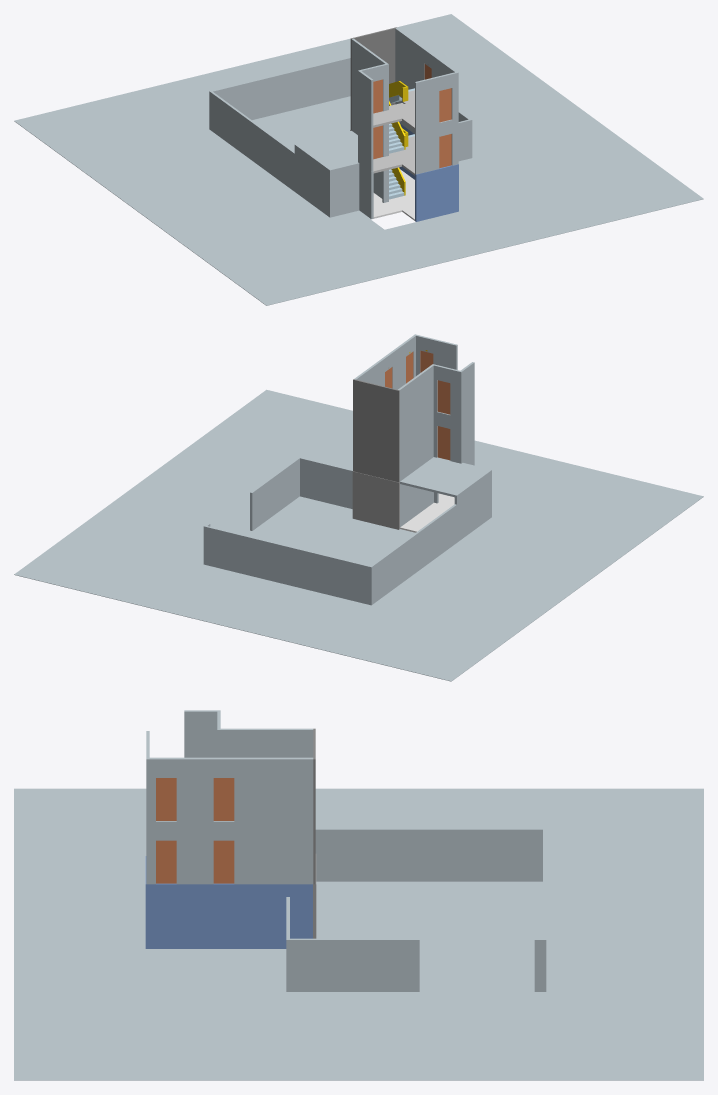
The model's file is wingA.dae.
3 views of the same model, one above another, from view 1: azimuth 30°, elevation 25°; view 2: azimuth 150°, elevation 25°; view 3: azimuth 270°, elevation 25° (orthographic). The views are drawn at different scales.
Parts seen in each view (by area): view 1: mesh190, mesh184, mesh181, mesh105, mesh204, mesh236, mesh207, mesh240, mesh172.000, mesh172, mesh221.000, mesh302 (+8 smaller); view 2: mesh190, mesh189, mesh181, mesh8, mesh220.000, mesh220, mesh247, mesh236, mesh246, mesh204, mesh113.000, mesh113 (+9 smaller); view 3: mesh190, mesh183, mesh106, mesh252, mesh242.000, mesh242, mesh109, mesh18.000, mesh18, mesh313.000, mesh14.000, mesh14 (+7 smaller).
Part boxes in pixels (x1,y1,x2,y2): mesh190: [14, 14, 703, 305]; mesh184: [213, 58, 350, 119]; mesh181: [209, 91, 294, 191]; mesh105: [416, 164, 458, 221]; mesh204: [294, 145, 329, 217]; mesh236: [297, 131, 382, 168]; mesh207: [330, 163, 359, 217]; mesh240: [395, 28, 424, 88]; mesh172.000: [416, 77, 439, 128]; mesh172: [416, 123, 439, 174]; mesh221.000: [354, 28, 395, 75]; mesh302: [373, 169, 414, 219]; mesh190: [14, 389, 703, 681]; mesh189: [203, 526, 371, 605]; mesh181: [371, 505, 456, 604]; mesh8: [352, 471, 398, 529]; mesh220.000: [353, 380, 398, 436]; mesh220: [353, 425, 398, 482]; mesh247: [300, 458, 352, 508]; mesh236: [400, 457, 488, 494]; mesh246: [252, 458, 299, 530]; mesh204: [457, 470, 491, 542]; mesh113.000: [399, 411, 433, 481]; mesh113: [399, 366, 433, 435]; mesh190: [14, 788, 703, 1080]; mesh183: [315, 829, 542, 881]; mesh106: [145, 884, 312, 948]; mesh252: [286, 940, 419, 991]; mesh242.000: [234, 821, 313, 884]; mesh242: [234, 759, 313, 821]; mesh109: [217, 730, 313, 757]; mesh18.000: [176, 821, 213, 884]; mesh18: [176, 759, 213, 821]; mesh313.000: [184, 711, 217, 757]; mesh14.000: [213, 840, 234, 883]; mesh14: [213, 778, 234, 820].
Size of the model in its own units: 30 by 30 by 9.13.
